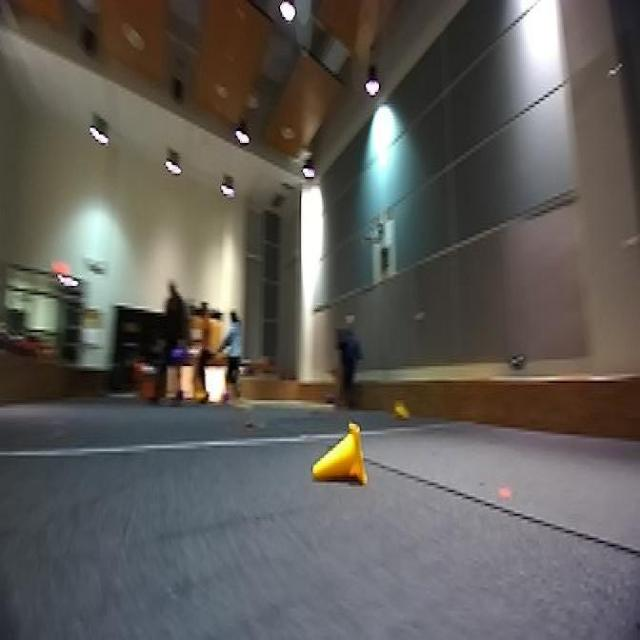frc_cone: (313, 424, 368, 495), (390, 395, 414, 422)
frc_cube: (166, 340, 187, 371)
